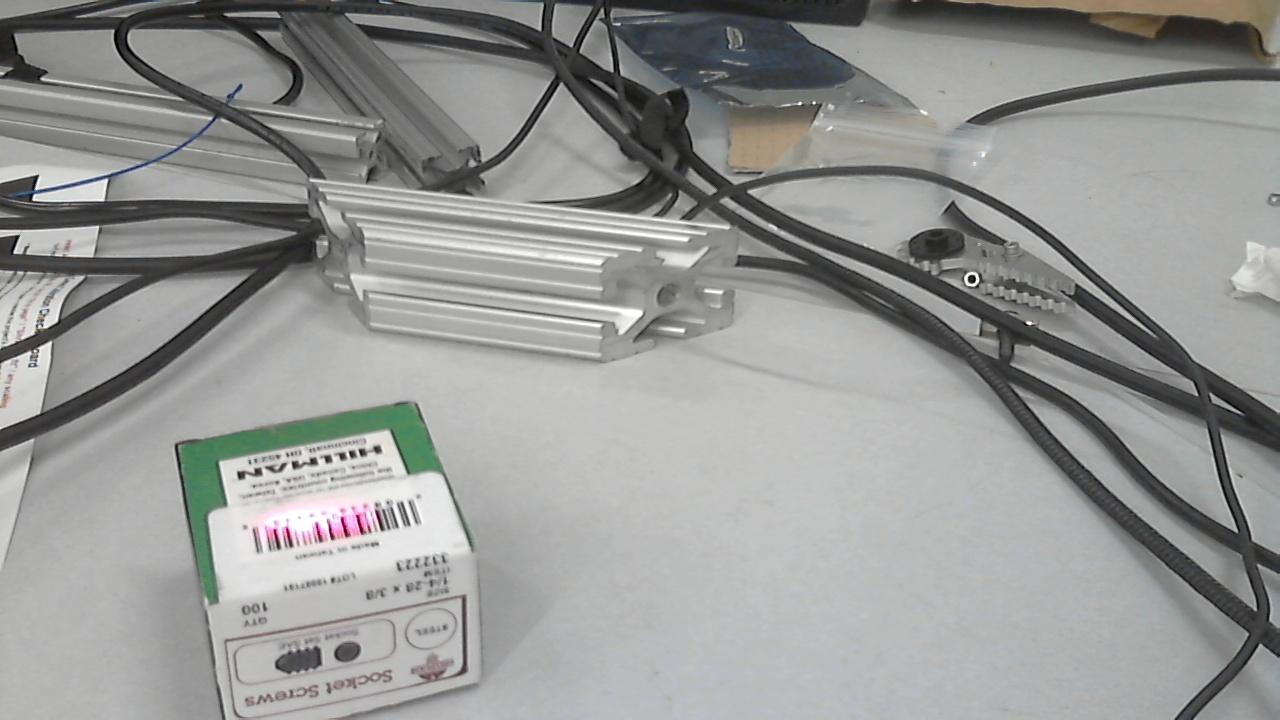Object toy football - Material foam - Color blue - Pdfname VT1ffZoLOnKv: (231, 490, 397, 553)
